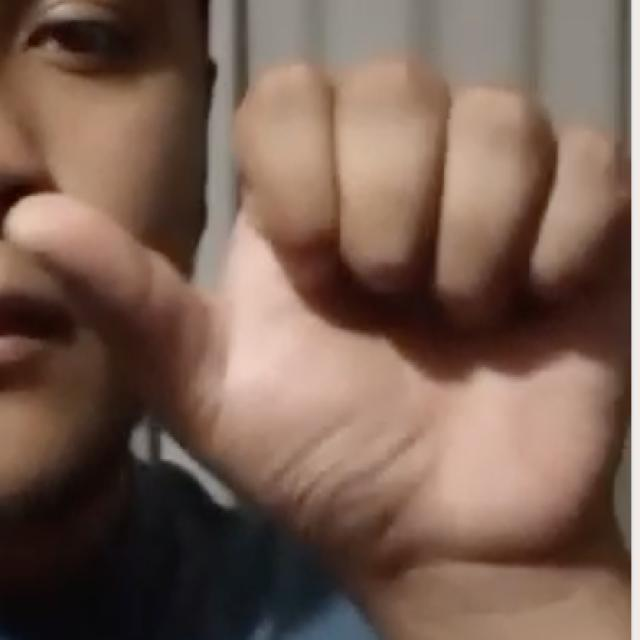A: (1, 54, 630, 630)
